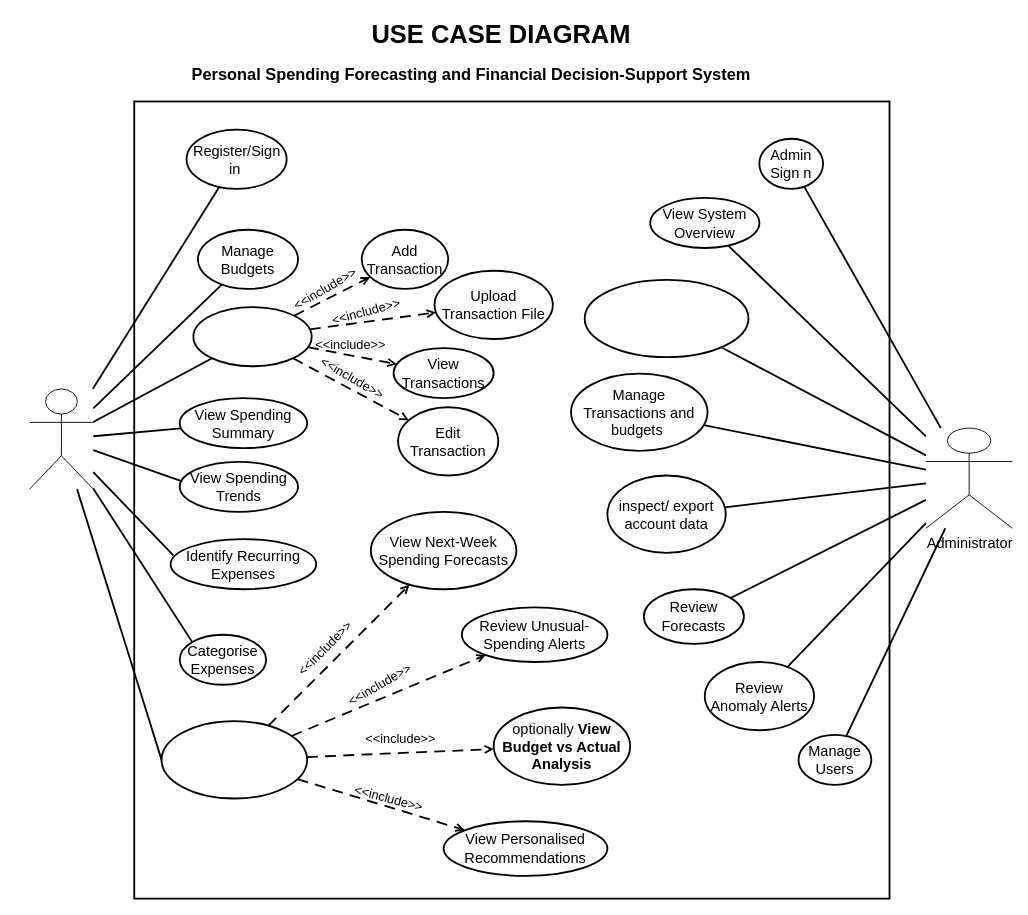
The diagram is 1028 pixels wide and 915 high, and some of its shapes have lost their labels. The shapes that lost their labels are listed below. From the top down, each one's centre as x and y in pixels, then its label:
At point 252,336: "Manage Transactions".
At point 666,318: "Review Recommendations".
At point 61,438: "User".
At point 234,759: "View Decision-Support Dashboard".
